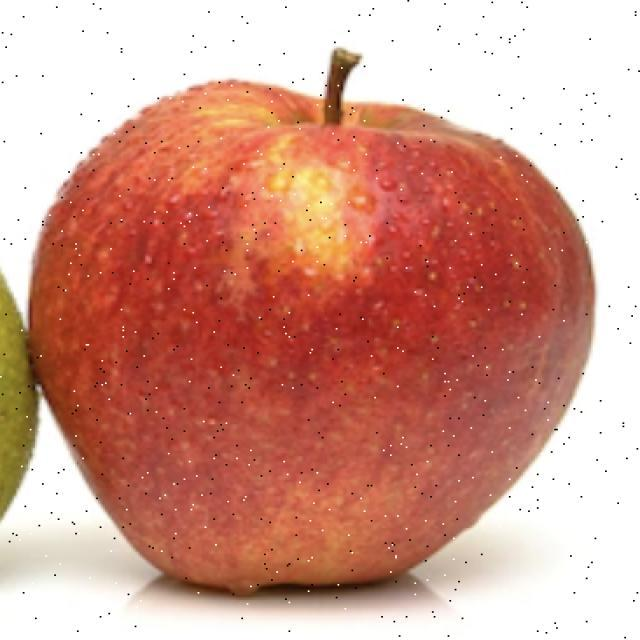Fresh Apple: (41, 80, 586, 592)
